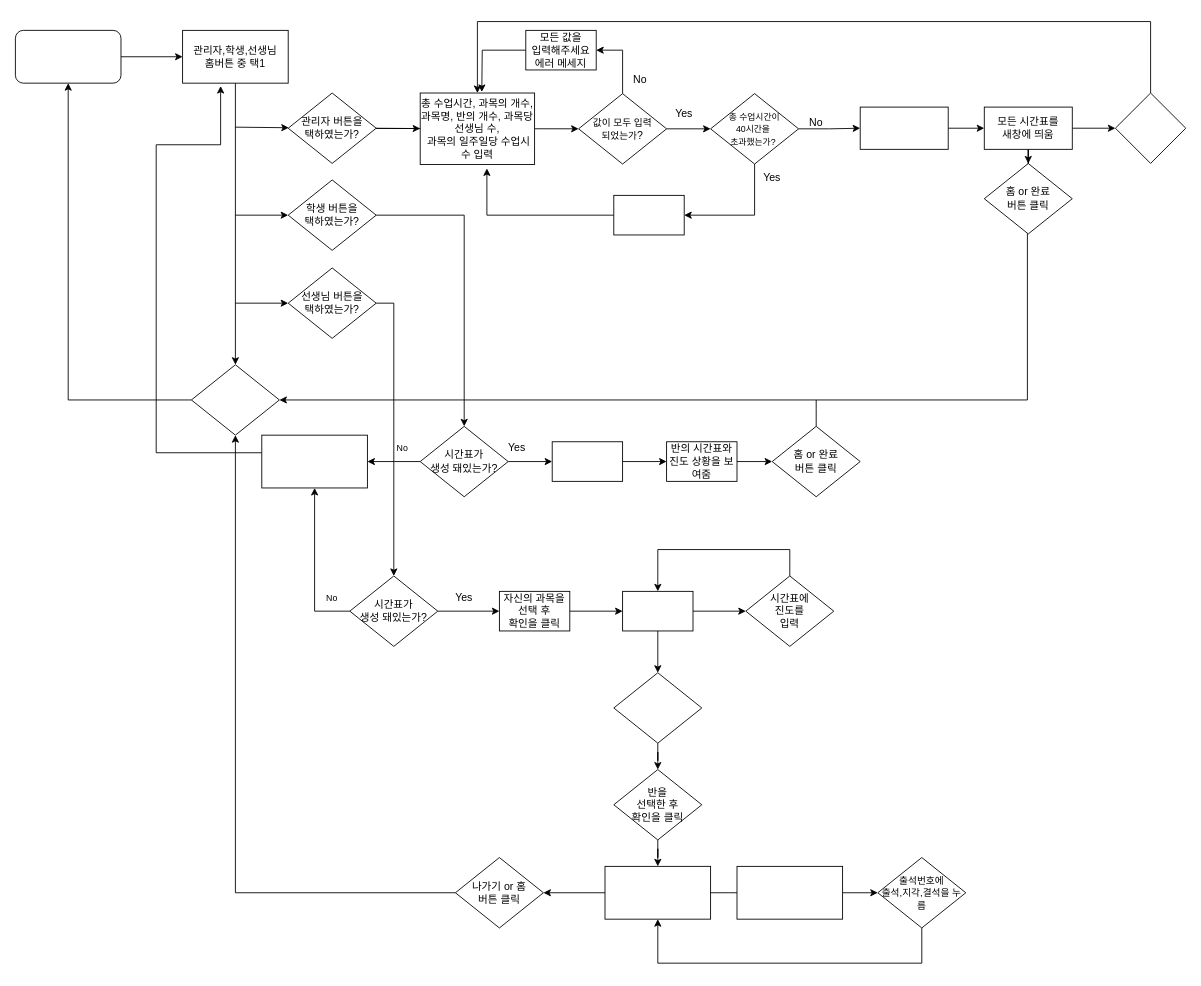
Image size: 1201x986. Some labels were removed from this diagram. The centre of each missing label's shape, as x and y in pixels:
"아직 시간표가 생성되지 않았습니다" 경고문 표시: pixel 314 461
과목별 시간표와 진도 상황을 보여줌: pixel 657 610
다시 입력해주세요 에러 메세지: pixel 648 214
반의 시간표와 출결 현황을 보여줌: pixel 657 892
시간표 생성 버튼 클릭: pixel 903 127
시간표 초기화 버튼을 눌렀는가?: pixel 1150 127
시작 학급관리 프로그램: pixel 68 56
자신의 반을 선택 후 확인을 클릭: pixel 587 461
학급 관리를 선택: pixel 657 707
홈 버튼을 택하였는가?: pixel 235 399
